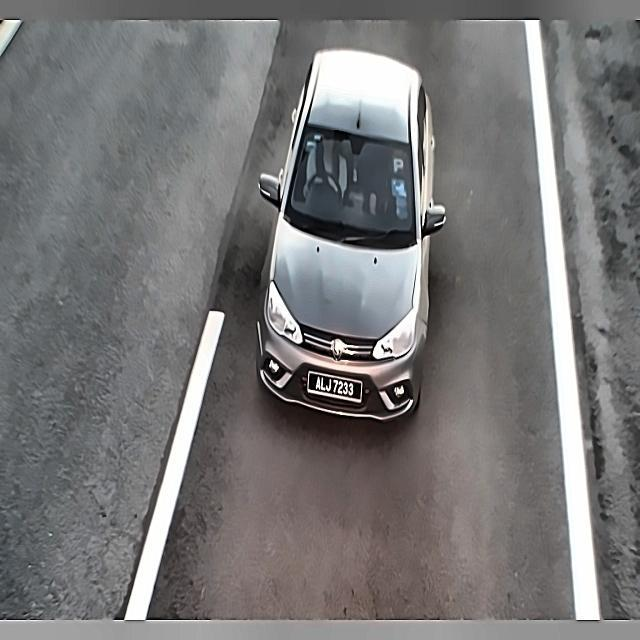car: (306, 368, 366, 407)
